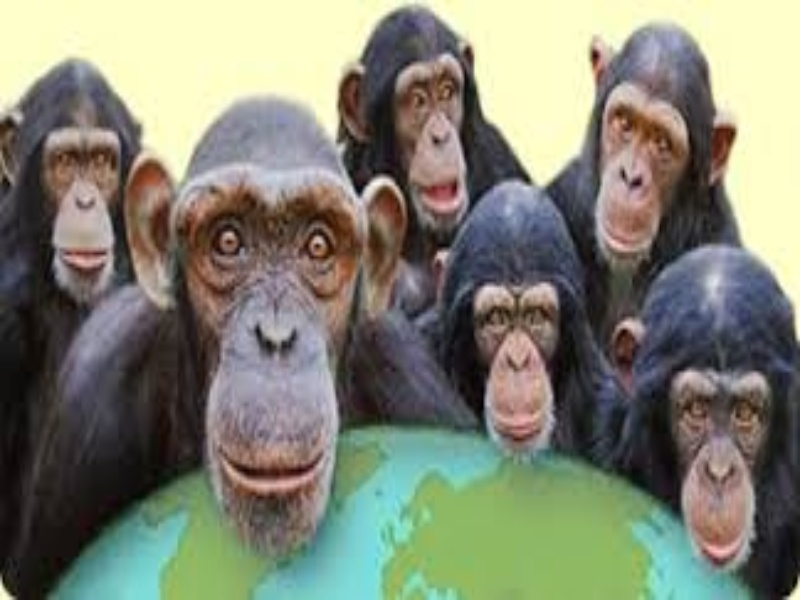monkey: (131, 100, 367, 583), (609, 279, 800, 572), (424, 175, 615, 468), (559, 12, 747, 273), (351, 1, 512, 230), (1, 59, 135, 325)
